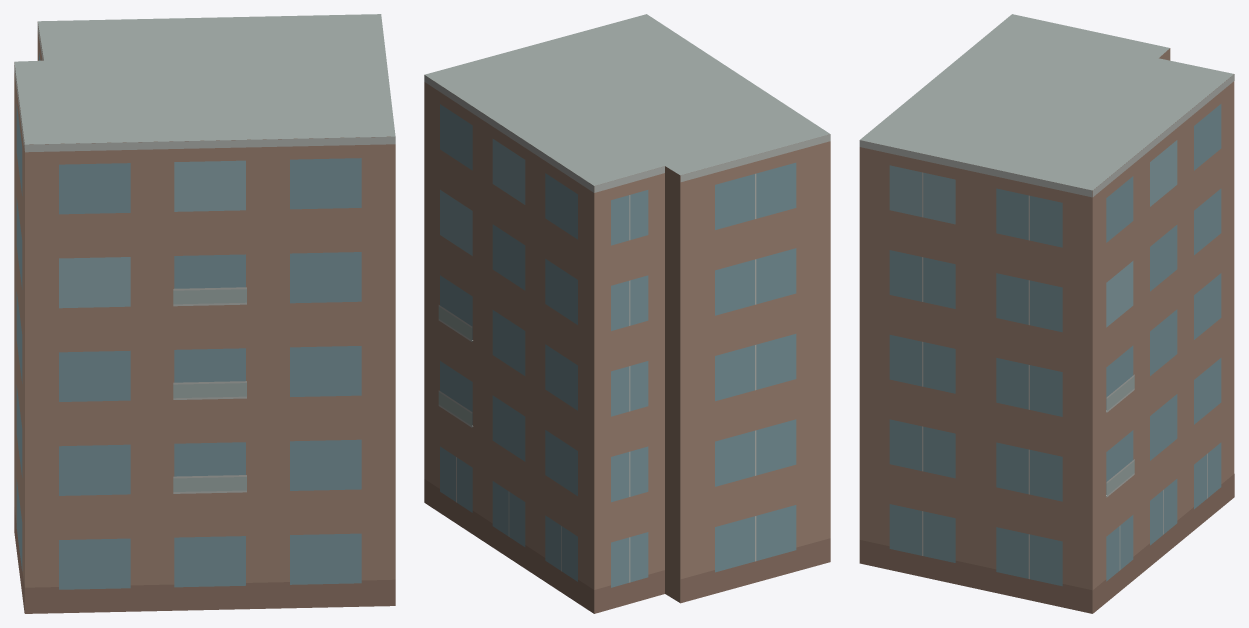
Rendered from survey-upis-32879695.glb.
3 renders of one model, left to right at view 1: azimuth 30°, elevation 25°; view 2: azimuth 150°, elevation 25°; view 3: azimuth 270°, elevation 25°, orthographic. The views are drawn at different scales.
Visible parts, largest first — view 1: survey-upis-32879695.tmp; view 2: survey-upis-32879695.tmp; view 3: survey-upis-32879695.tmp.
Boxes of the visible parts, <box> form: survey-upis-32879695.tmp: <box>14,14,395,613</box>; survey-upis-32879695.tmp: <box>424,14,830,613</box>; survey-upis-32879695.tmp: <box>859,14,1234,613</box>.
Size of the model in its own units: 13.33 by 14.9 by 11.96.
